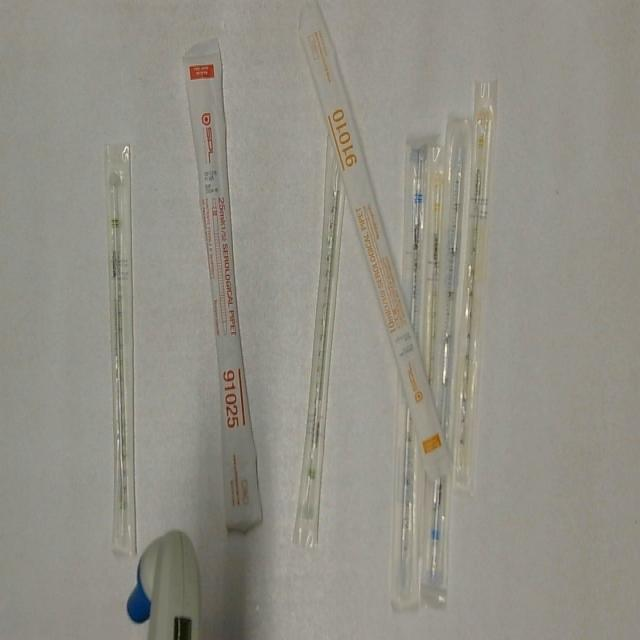Pipette Controller: (123, 525, 205, 640)
Serelogical Pipet 1 mL: (452, 77, 503, 492), (418, 146, 452, 392)
Serelogical Pipet 10 mL: (293, 1, 459, 485)
Serelogical Pipet 2 mL: (290, 122, 350, 553), (101, 140, 140, 556)
Serelogical Pipet 25 mL: (180, 34, 268, 540)
Serelogical Pipet 5 mL: (387, 128, 440, 612), (420, 117, 470, 597)
